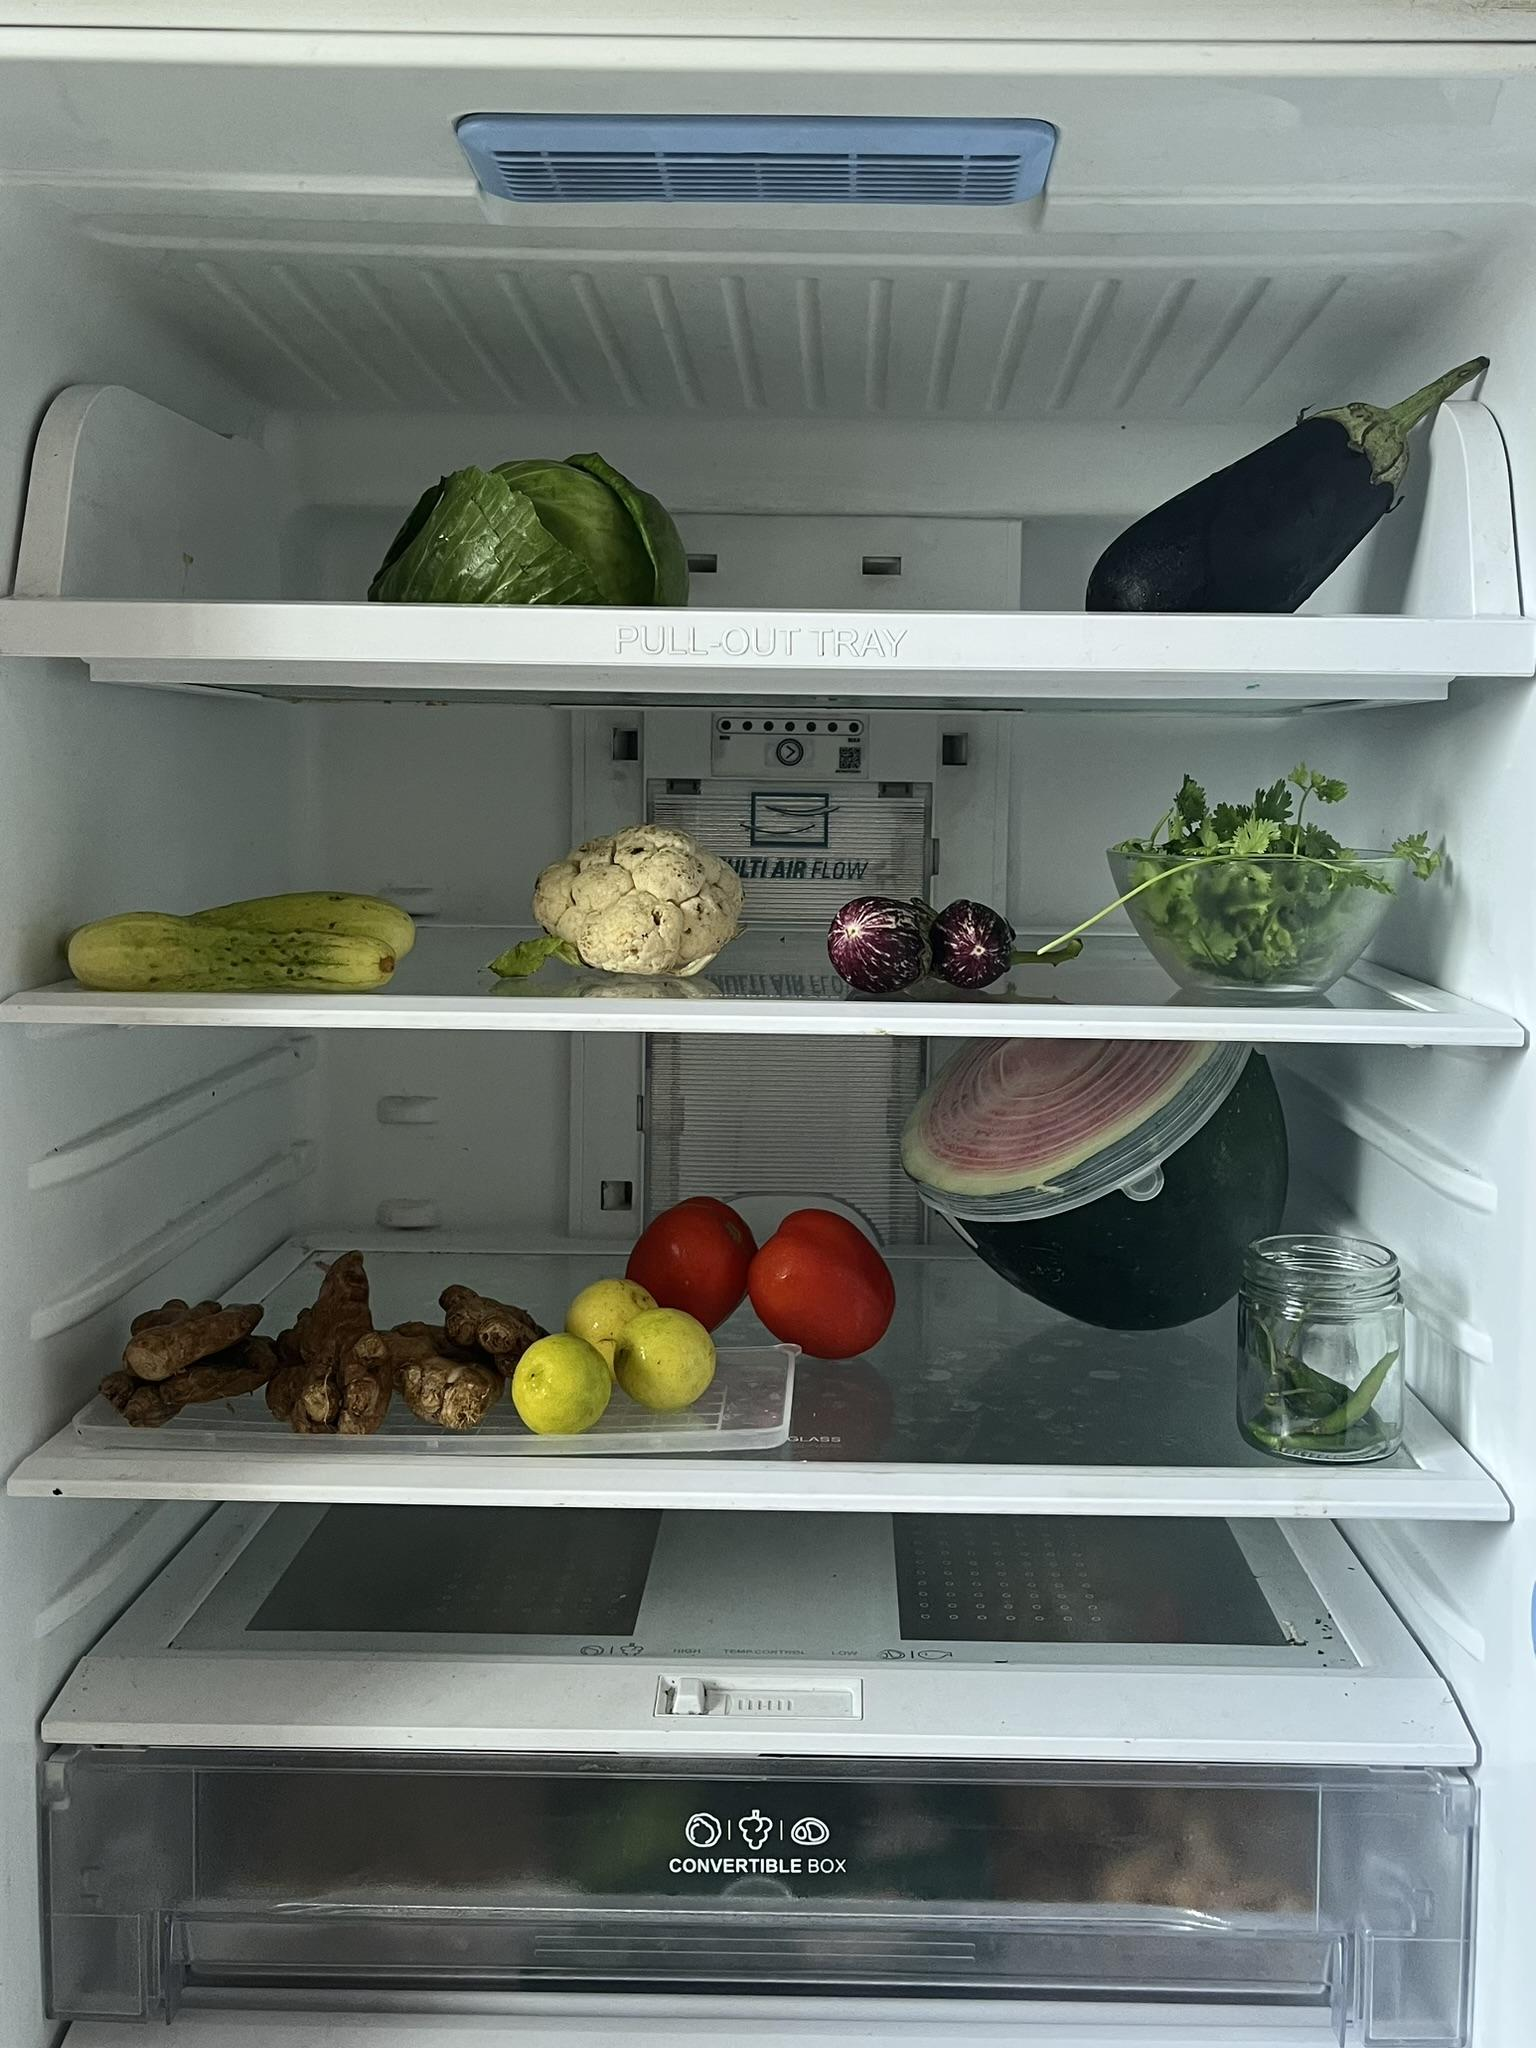bringal: (1083, 360, 1486, 619), (823, 893, 1050, 984)
cabbage: (384, 447, 697, 603)
cauliflower: (526, 834, 747, 971)
chillies: (1241, 1306, 1397, 1450)
coriander: (1104, 766, 1410, 987)
cucumber: (63, 890, 413, 984)
ginger: (116, 1237, 513, 1424)
lemon: (513, 1280, 710, 1440)
tomato: (626, 1190, 897, 1353)
watermelon: (920, 1037, 1276, 1334)
